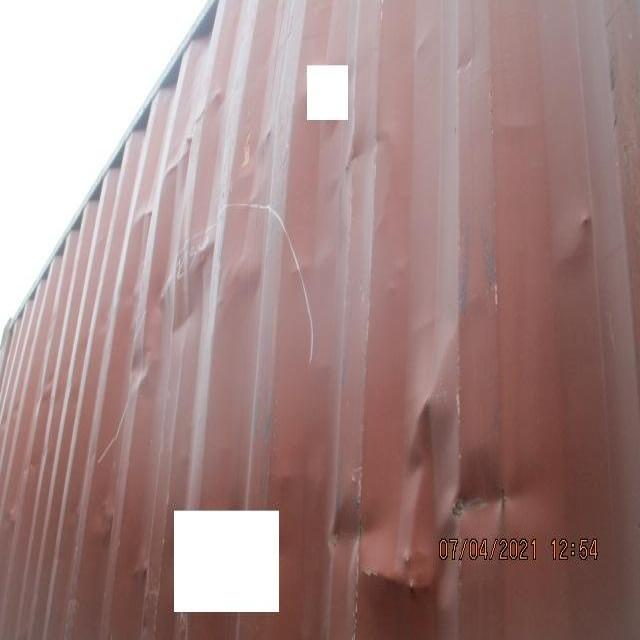dent: (320, 346, 552, 624), (101, 81, 285, 408)
